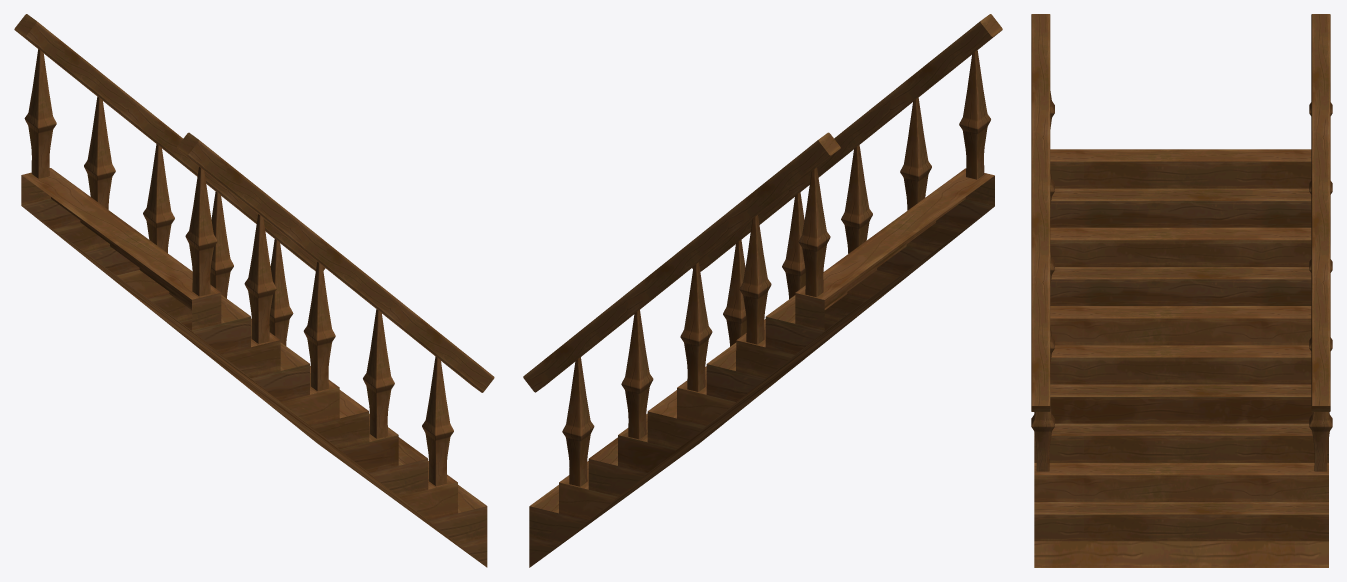
File: SM_Stairs_01.gltf
3 renders of one model, left to right at view 1: azimuth 30°, elevation 25°; view 2: azimuth 150°, elevation 25°; view 3: azimuth 270°, elevation 25°, orthographic. The views are drawn at different scales.
Visible parts, largest first — view 1: SM_Stairs_01; view 2: SM_Stairs_01; view 3: SM_Stairs_01.
Part boxes in pixels (<box>): SM_Stairs_01: <box>14,14,494,567</box>; SM_Stairs_01: <box>523,14,1002,567</box>; SM_Stairs_01: <box>1031,14,1332,567</box>.
Bounding box in the file's own units: 2.08 × 3.23 × 2.04.
Materials: 1 (1 with a texture image).
